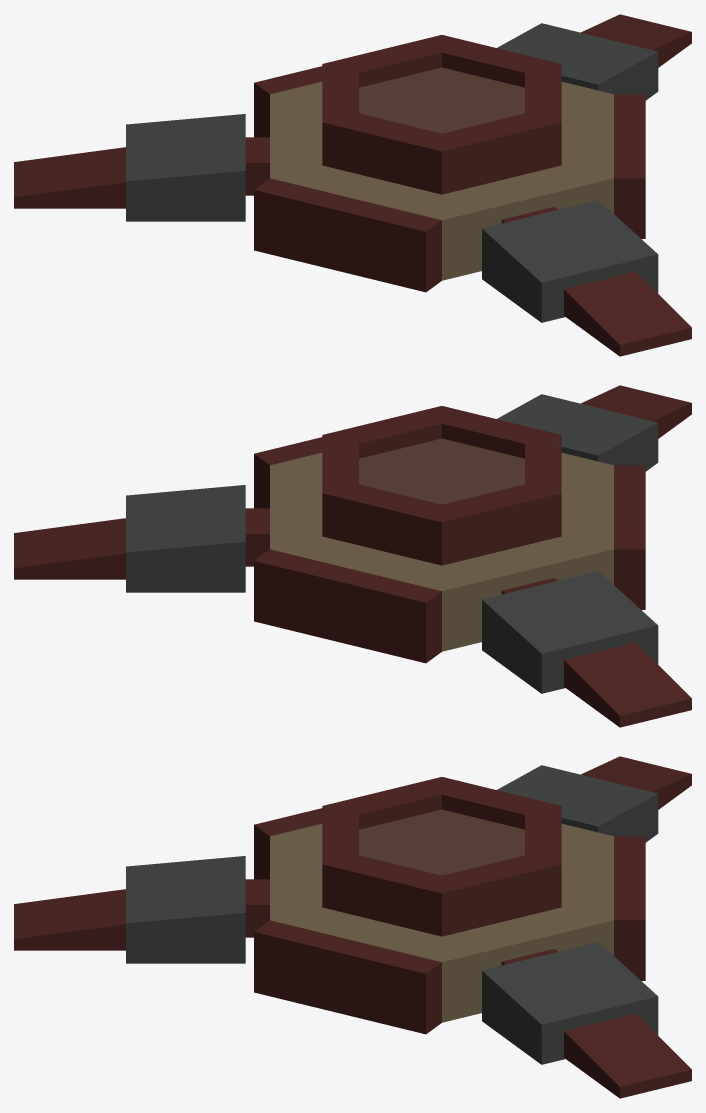
The model's file is zhib_decoy.fbx.
3 views of the same model, one above another, from view 1: azimuth 30°, elevation 25°; view 2: azimuth 150°, elevation 25°; view 3: azimuth 270°, elevation 25° (orthographic).
Parts seen in each view (by area): view 1: zhib_trap; view 2: zhib_trap; view 3: zhib_trap.
Part boxes in pixels (x1,y1,x2,y2): zhib_trap: (14,14,691,356); zhib_trap: (14,385,691,727); zhib_trap: (14,756,691,1098).
Size of the model in its own units: 1.8 by 0.2631 by 1.56.
